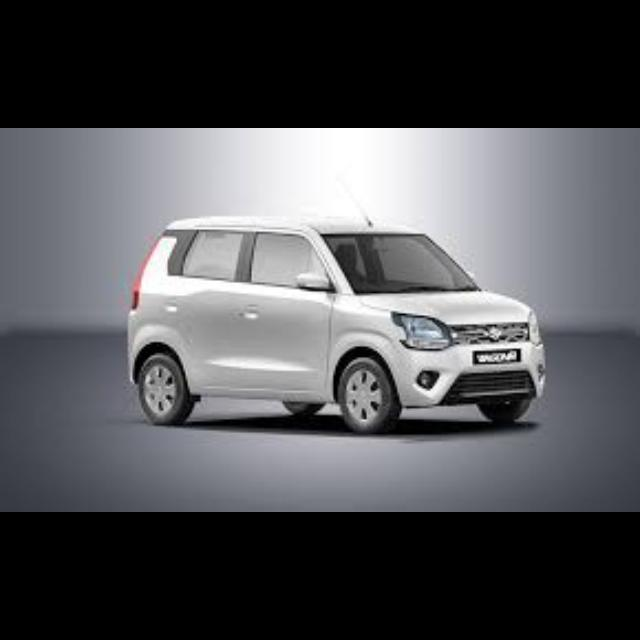number-plate: (470, 346, 521, 364)
vehicles: (115, 195, 550, 440)
